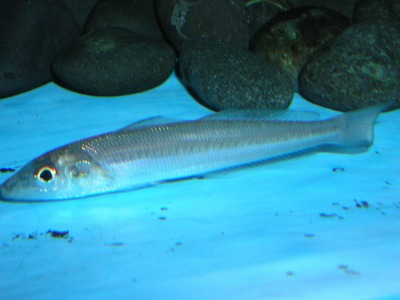kiss: (6, 112, 380, 205)
